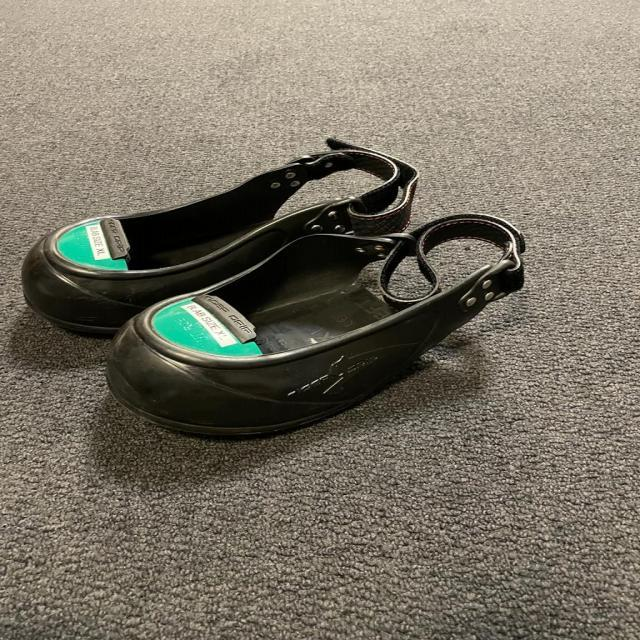shoes: (106, 200, 527, 444), (16, 132, 444, 336)
